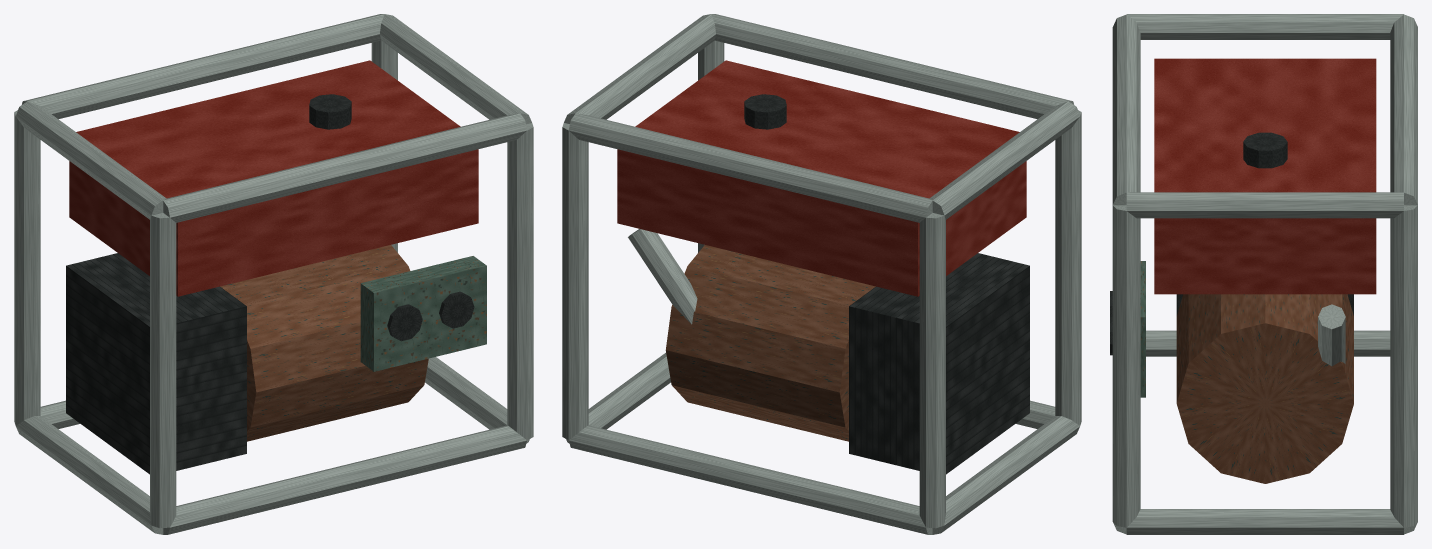
File: Generator.glb
3 views of the same model, side by side, from view 1: azimuth 30°, elevation 25°; view 2: azimuth 150°, elevation 25°; view 3: azimuth 270°, elevation 25° (orthographic). The views are drawn at different scales.
Visible parts, largest first — view 1: Generator; view 2: Generator; view 3: Generator.
Boxes of the visible parts, bbox=[...] form: Generator: bbox=[14, 14, 533, 534]; Generator: bbox=[562, 14, 1081, 534]; Generator: bbox=[1110, 14, 1417, 534].
Size of the model in its own units: 0.81 by 0.68 by 0.555.
5 materials, 5 textured.
